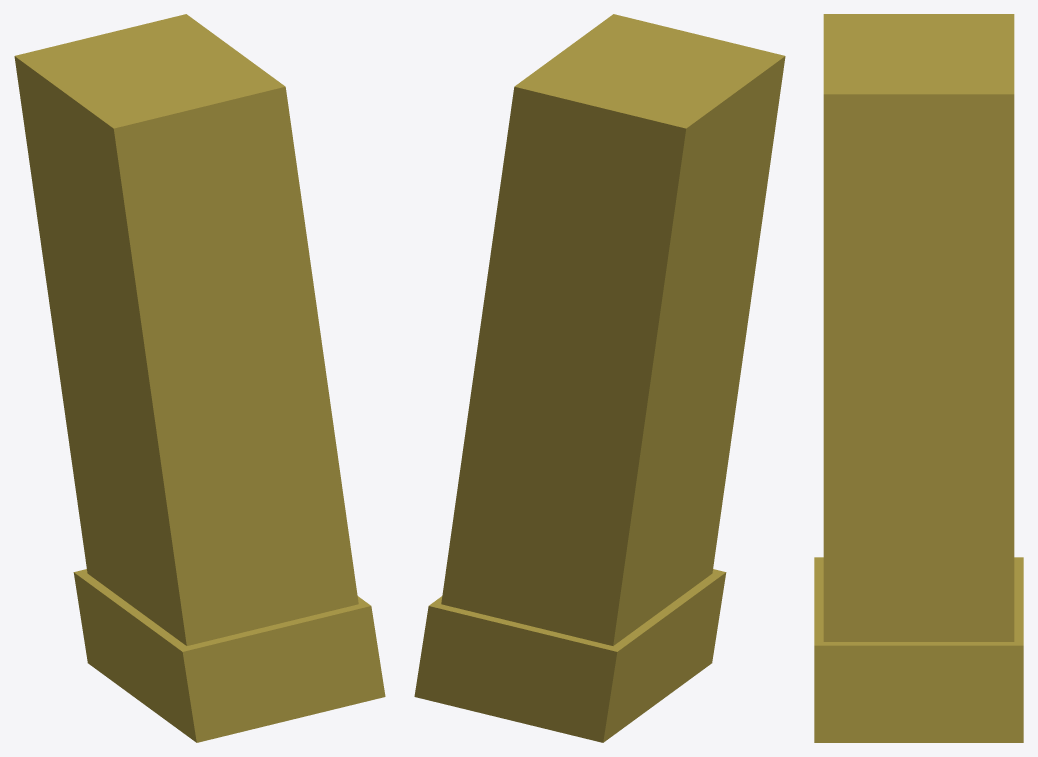
File: pisecnyPillarSimple.fbx
The picture shows the model from 3 angles, left to right: view 1: azimuth 30°, elevation 25°; view 2: azimuth 150°, elevation 25°; view 3: azimuth 270°, elevation 25°; orthographic projection. The views are drawn at different scales.
Parts seen in each view (by area): view 1: Cube; view 2: Cube; view 3: Cube.
Part boxes in pixels (x1=…): Cube: x1=14, y1=14, x2=385, y2=742; Cube: x1=414, y1=14, x2=785, y2=742; Cube: x1=814, y1=14, x2=1023, y2=742.
Size of the model in its own units: 155 by 350 by 110.
1 material, 1 textured.
